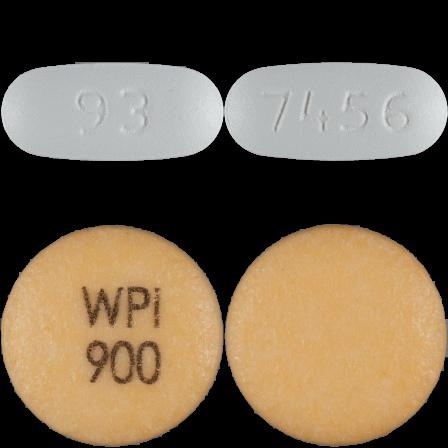50436-0874: (0, 0, 224, 224)
